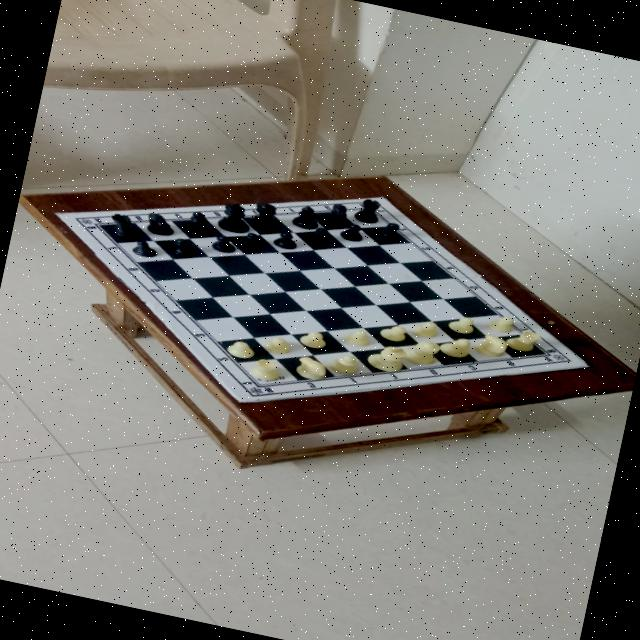corners: (232, 397, 250, 408), (576, 360, 594, 370), (49, 208, 64, 217), (374, 193, 388, 201)
